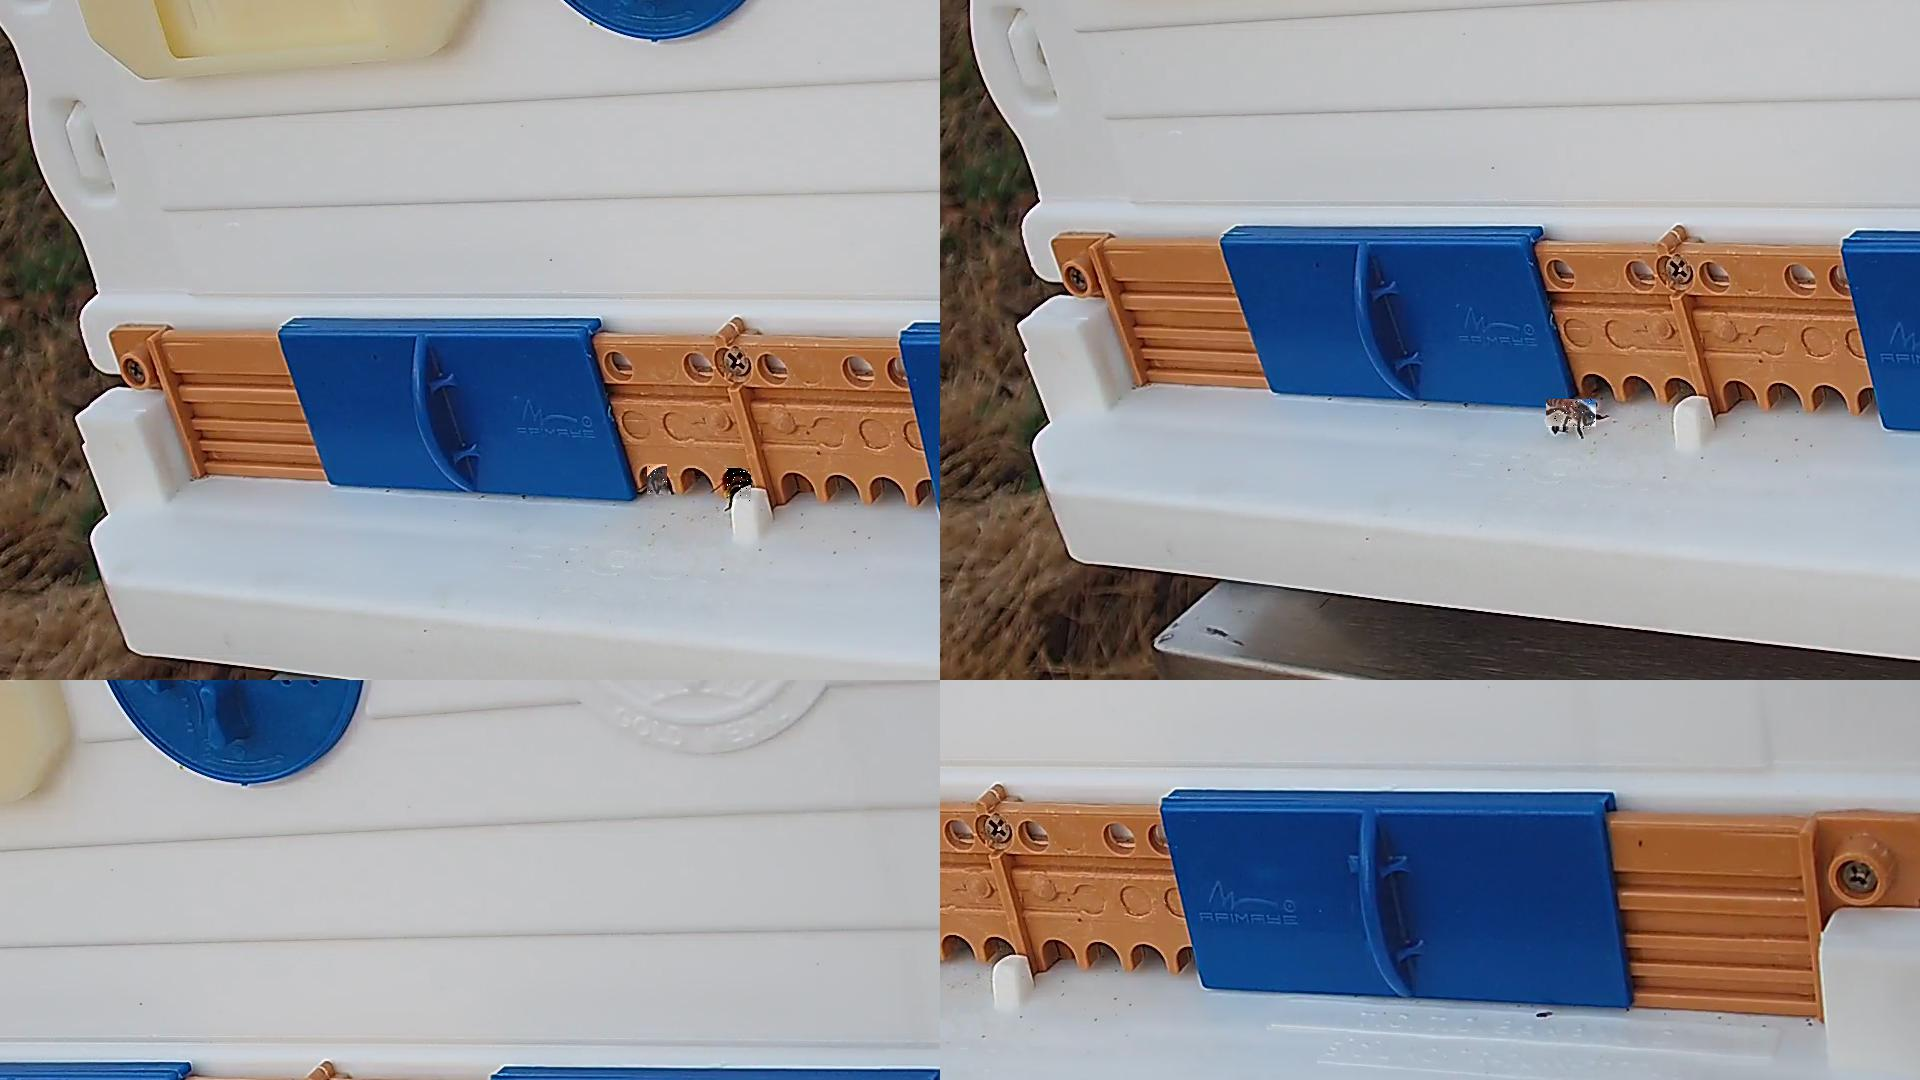bee: (1547, 400, 1597, 431), (727, 469, 752, 502), (647, 464, 669, 495)
